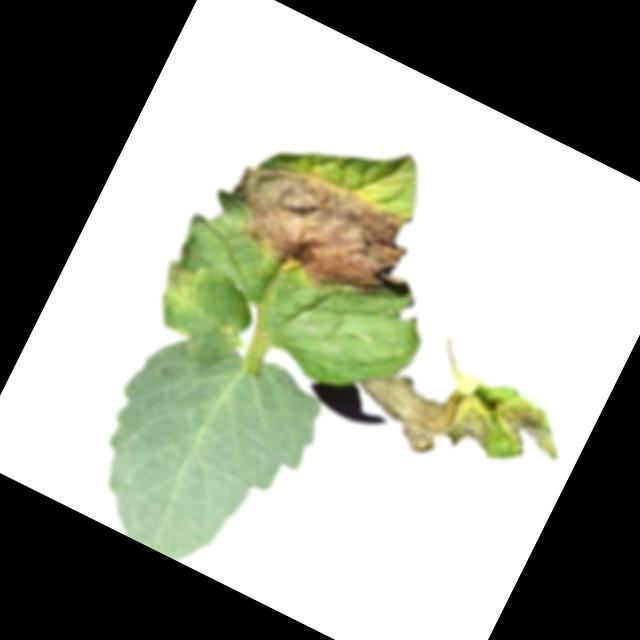Late_blight: (210, 140, 440, 326), (345, 326, 574, 508), (150, 250, 217, 321)
healthy: (64, 307, 334, 590)
